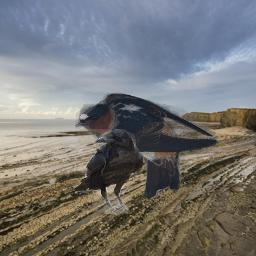Crow: (74, 129, 143, 214)
Swallow: (75, 91, 220, 199)
